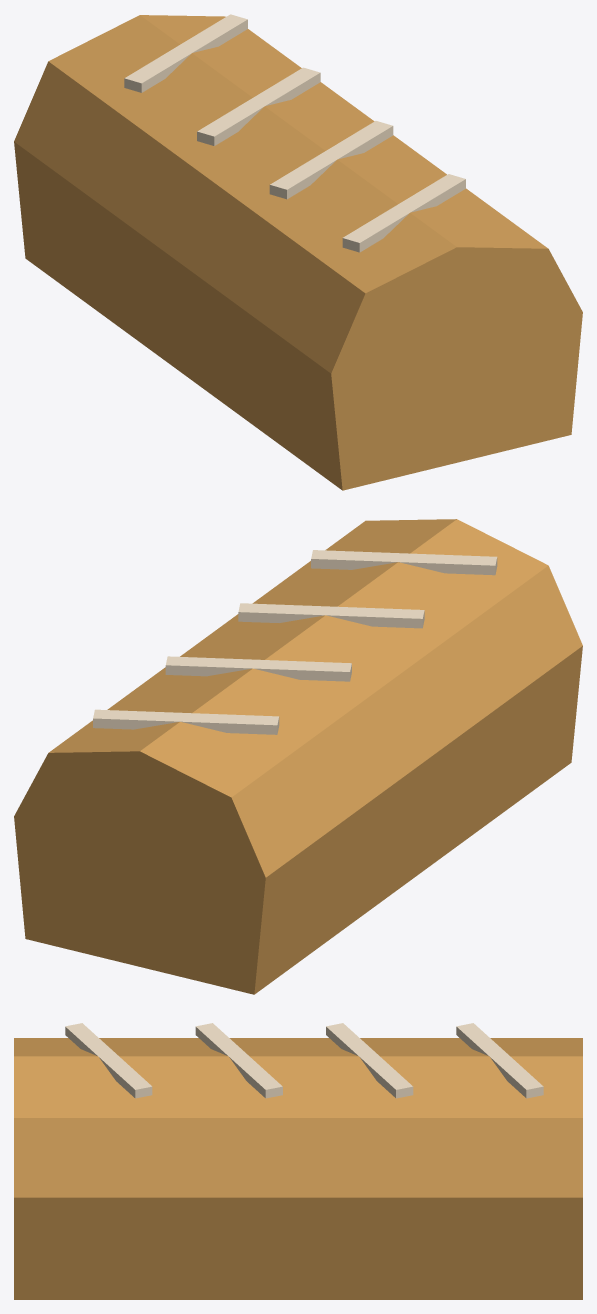
Rendered from bread.glb.
The picture shows the model from 3 angles, top to bottom: view 1: azimuth 30°, elevation 25°; view 2: azimuth 150°, elevation 25°; view 3: azimuth 270°, elevation 25°; orthographic projection. The views are drawn at different scales.
Parts seen in each view (by area): view 1: bread; view 2: bread; view 3: bread.
Boxes of the visible parts, bbox=[...] form: bread: bbox=[14, 14, 582, 490]; bread: bbox=[14, 519, 582, 994]; bread: bbox=[14, 1023, 582, 1299].
Bounding box in the file's own units: 0.11 × 0.09 × 0.24.
